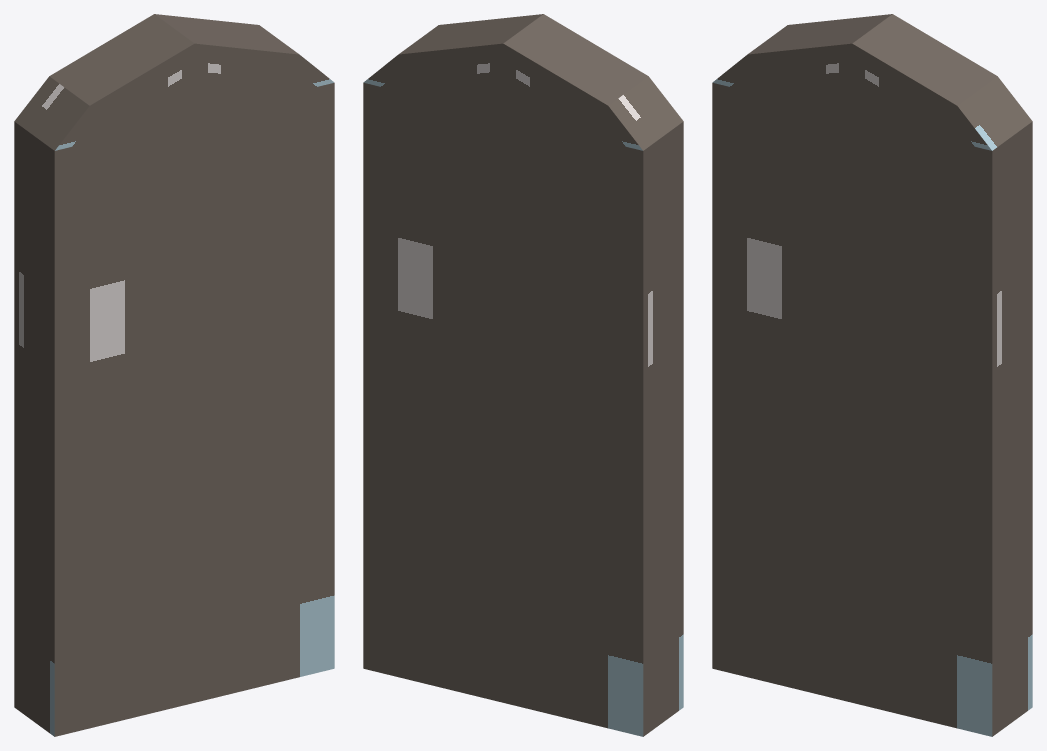
File: Tombstone.gltf
3 views of the same model, side by side, from view 1: azimuth 30°, elevation 25°; view 2: azimuth 150°, elevation 25°; view 3: azimuth 330°, elevation 25° (orthographic).
Size of the model in its own units: 1 by 2.25 by 0.2501.
Materials: 1 (1 with a texture image).
